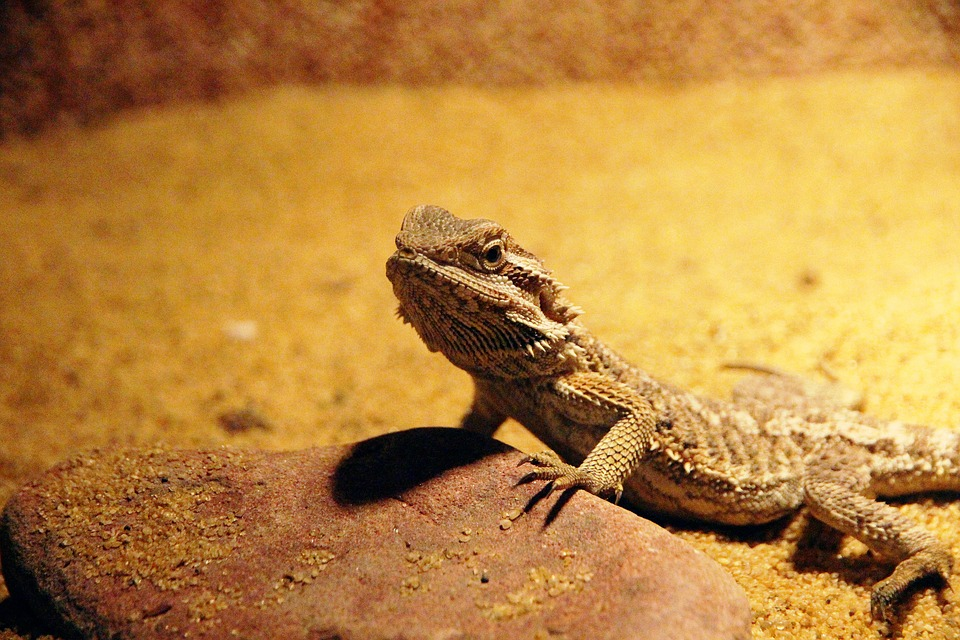bearded: (383, 198, 960, 617)
